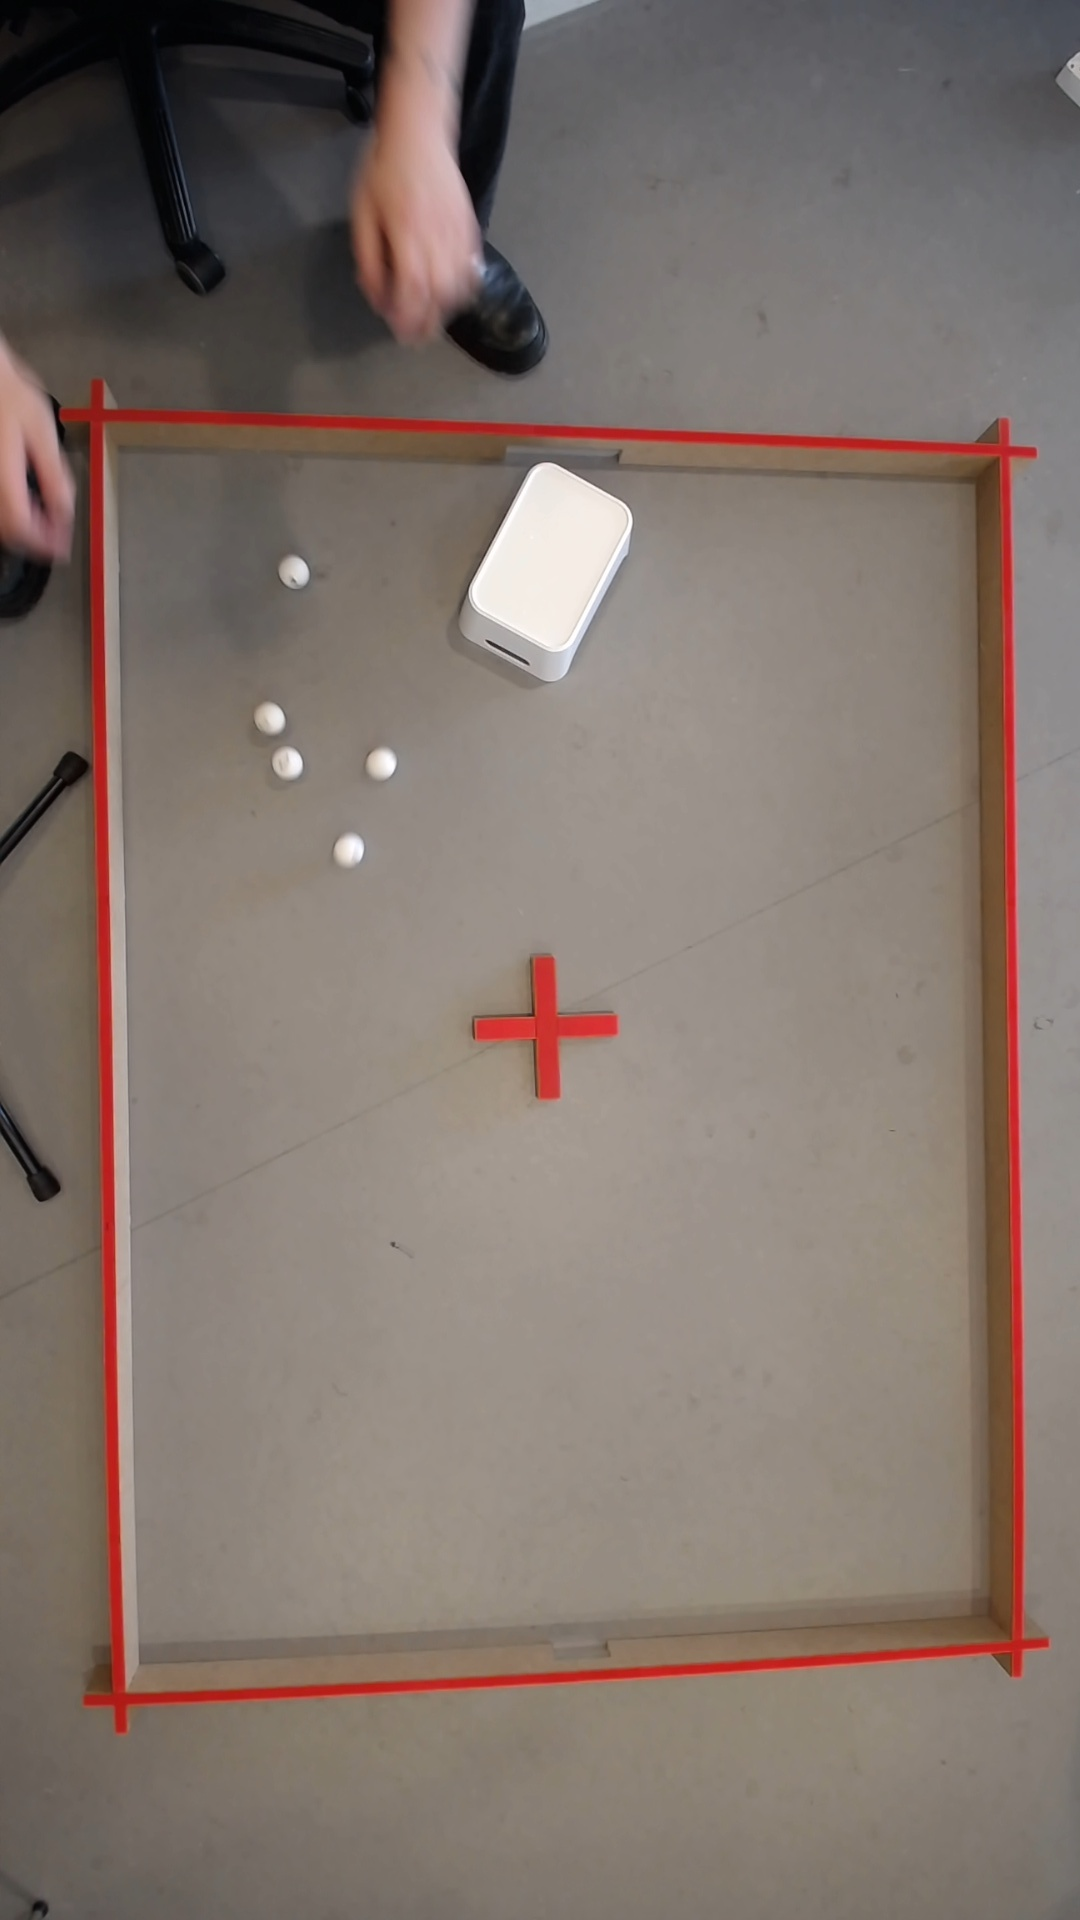balls: (390, 16, 483, 284), (1, 390, 34, 517), (332, 831, 368, 866), (367, 745, 400, 779), (276, 745, 305, 778), (284, 555, 314, 585), (260, 700, 287, 732), (40, 417, 59, 458)
car: (402, 237, 425, 273)
